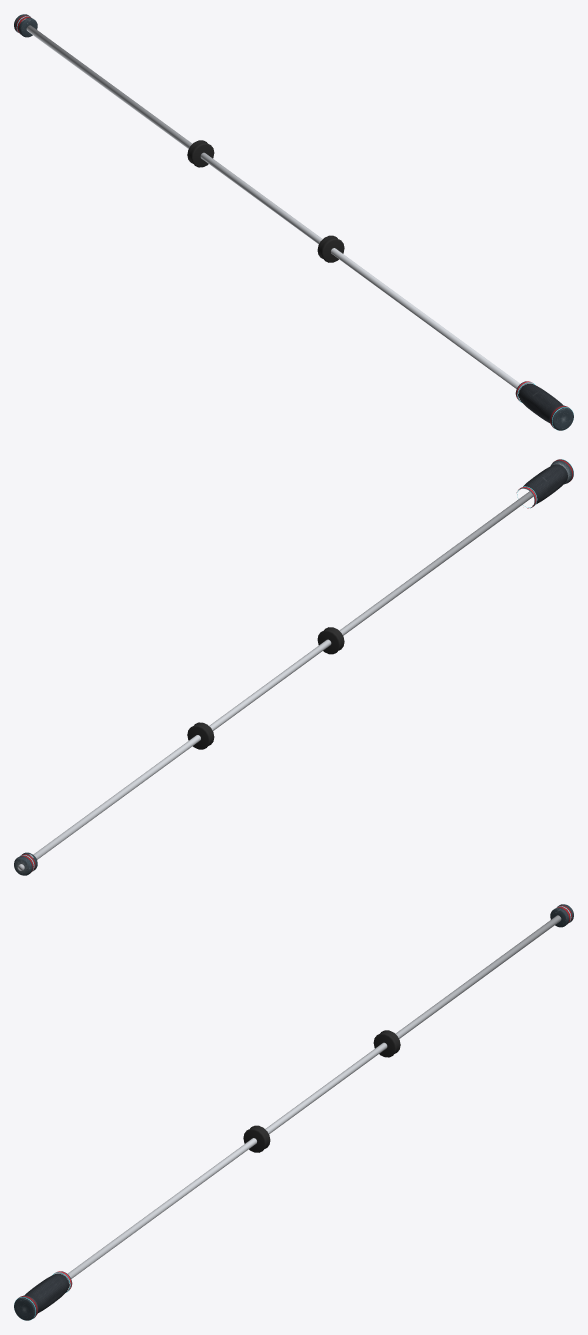
Rendered from fuzeball_rod_2man.glb.
3 views of the same model, one above another, from view 1: azimuth 30°, elevation 25°; view 2: azimuth 150°, elevation 25°; view 3: azimuth 330°, elevation 25° (orthographic).
Visible parts, largest first — view 1: rod2_bar.002, rod2_handle_grip; view 2: rod2_bar.002, rod2_handle_grip; view 3: rod2_bar.002, rod2_handle_grip.
Part boxes in pixels (bbox=[...]): rod2_bar.002: bbox=[26, 25, 520, 389]; rod2_handle_grip: bbox=[518, 383, 563, 422]; rod2_bar.002: bbox=[17, 491, 533, 870]; rod2_handle_grip: bbox=[520, 464, 567, 505]; rod2_bar.002: bbox=[67, 915, 561, 1279]; rod2_handle_grip: bbox=[24, 1273, 69, 1313].
Bounding box in the file's own units: 3.02 × 3.02 × 125.
Materials: 7 (2 with a texture image).
